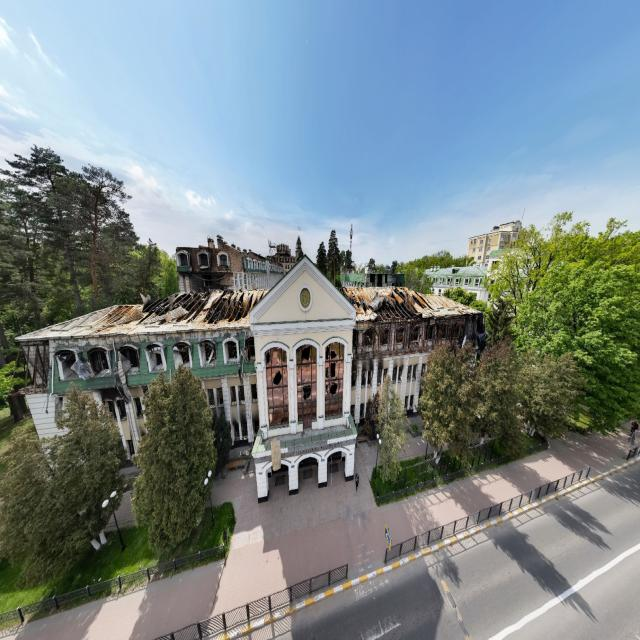broken_window: (264, 345, 289, 429), (88, 346, 110, 377)
building: (13, 248, 487, 499)
